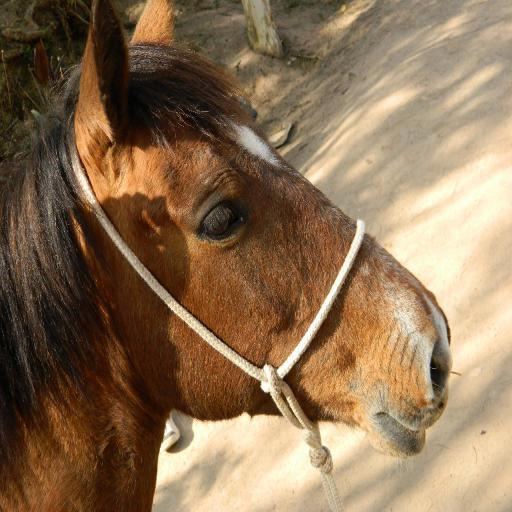Horse: (0, 0, 452, 512)
